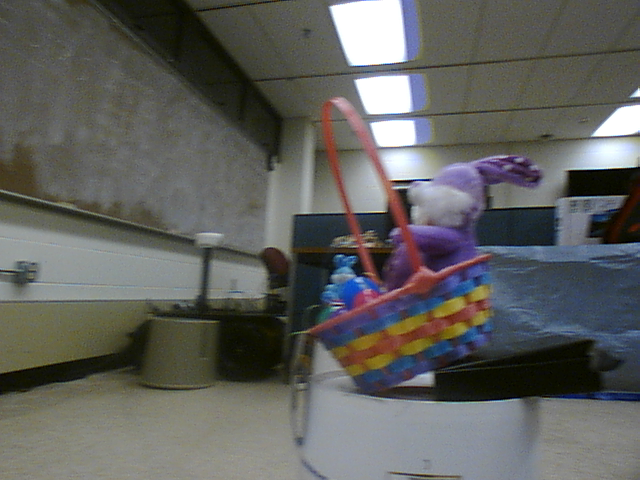bunny: (310, 91, 535, 388), (324, 254, 359, 307)
